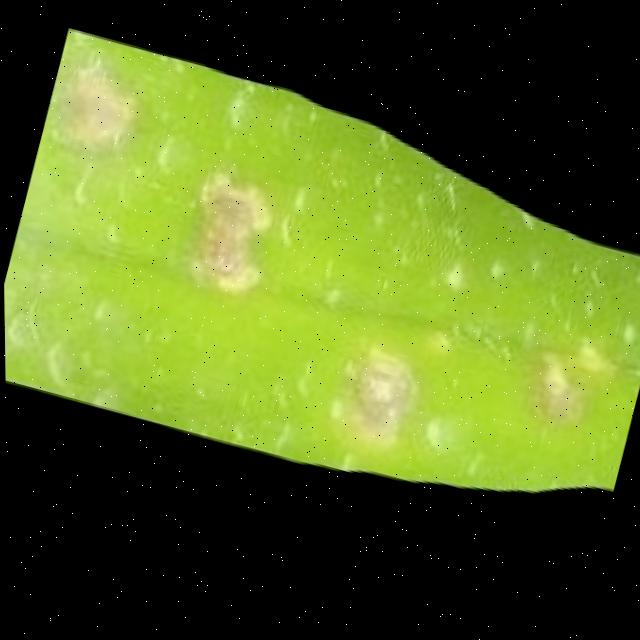mite: (189, 179, 268, 281), (346, 351, 416, 428), (612, 311, 640, 348)
spots: (3, 23, 640, 550)
sunburn: (172, 163, 286, 302)
